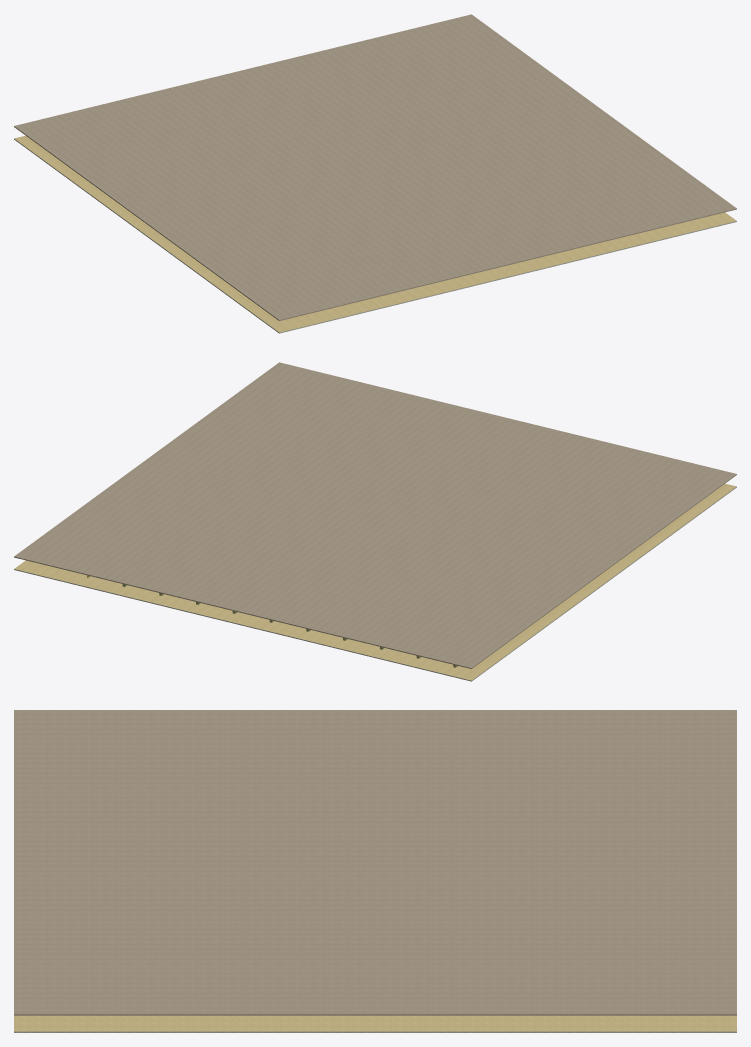
3 renders of one model, top to bottom at view 1: azimuth 30°, elevation 25°; view 2: azimuth 150°, elevation 25°; view 3: azimuth 270°, elevation 25°, orthographic. The views are drawn at different scales.
Parts seen in each view (by area): view 1: backroom_0; view 2: backroom_0; view 3: backroom_0.
Boxes of the visible parts, box(x1,y1,x2,y2) form: backroom_0: box(14, 14, 736, 333); backroom_0: box(14, 362, 736, 681); backroom_0: box(14, 710, 736, 1032).
Bounding box in the file's own units: 498 × 14 × 500.
Materials: 10 (10 with a texture image).
